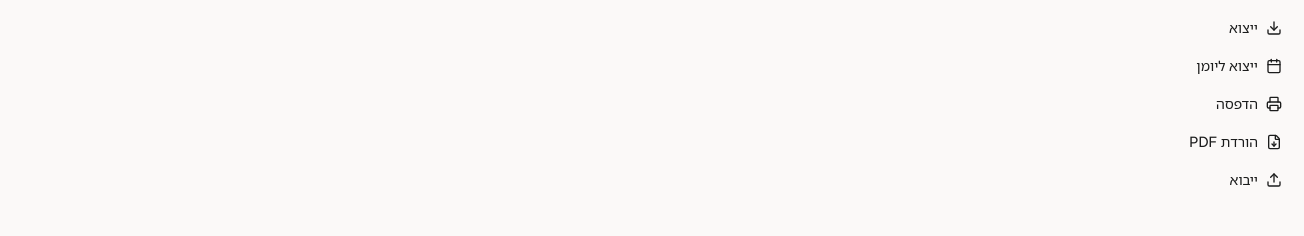
FileActions › reports a PDF export failure
The image size is (1304, 236).
Click the button "הורדת PDF" at (1238, 142), box [12,126,1292,158]
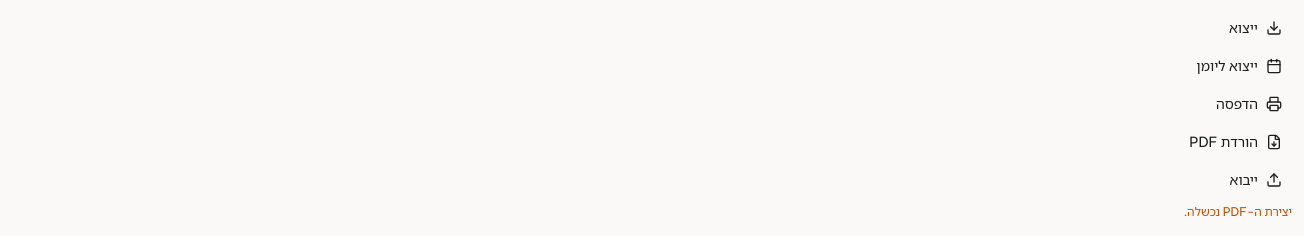
Now the text "יצירת ה-PDF נכשלה." is shown, box [1184,204,1292,219]
